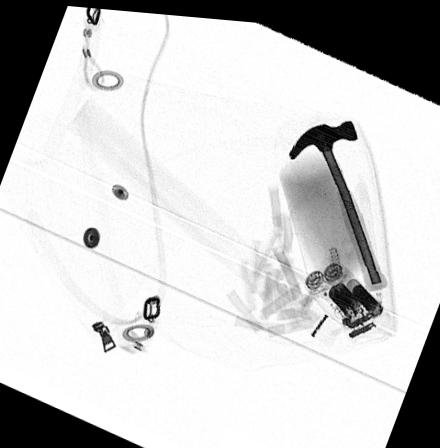Hammer: (288, 113, 389, 285)
